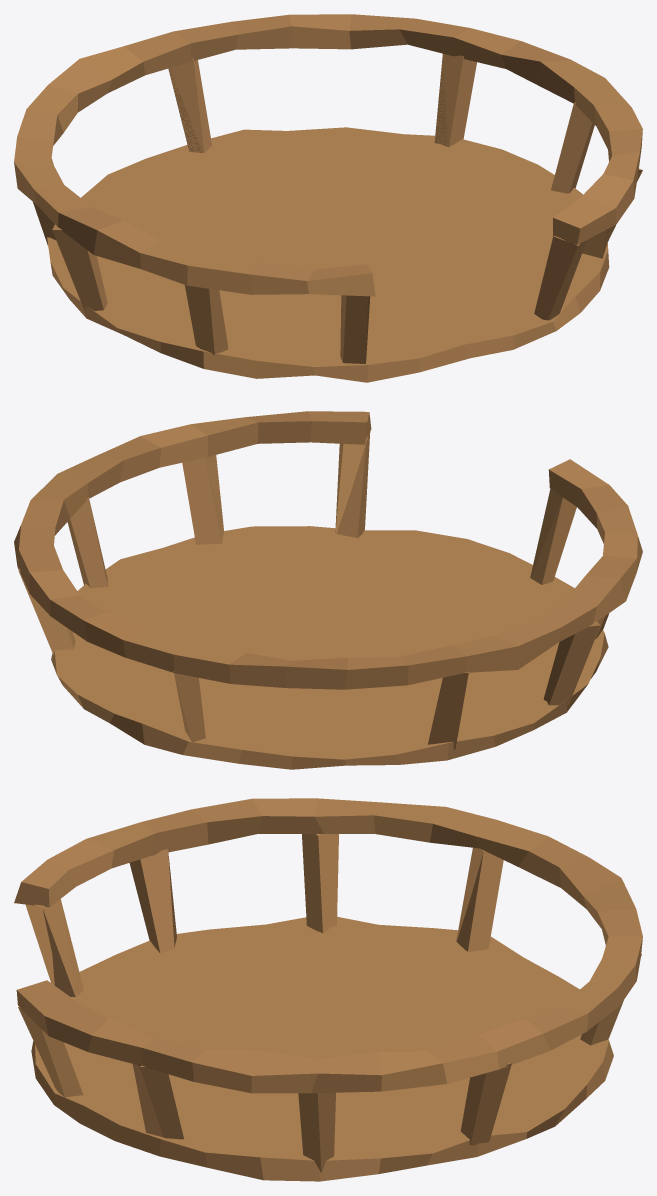
Rendered from Eagles_Nest.fbx.
The picture shows the model from 3 angles, top to bottom: view 1: azimuth 30°, elevation 25°; view 2: azimuth 150°, elevation 25°; view 3: azimuth 270°, elevation 25°; orthographic projection. The views are drawn at different scales.
Visible parts, largest first — view 1: EaglesNest; view 2: EaglesNest; view 3: EaglesNest.
Part boxes in pixels (<box>): EaglesNest: <box>14,14,642,382</box>; EaglesNest: <box>14,411,642,769</box>; EaglesNest: <box>14,798,642,1181</box>.
Size of the model in its own units: 800 by 838 by 181.
